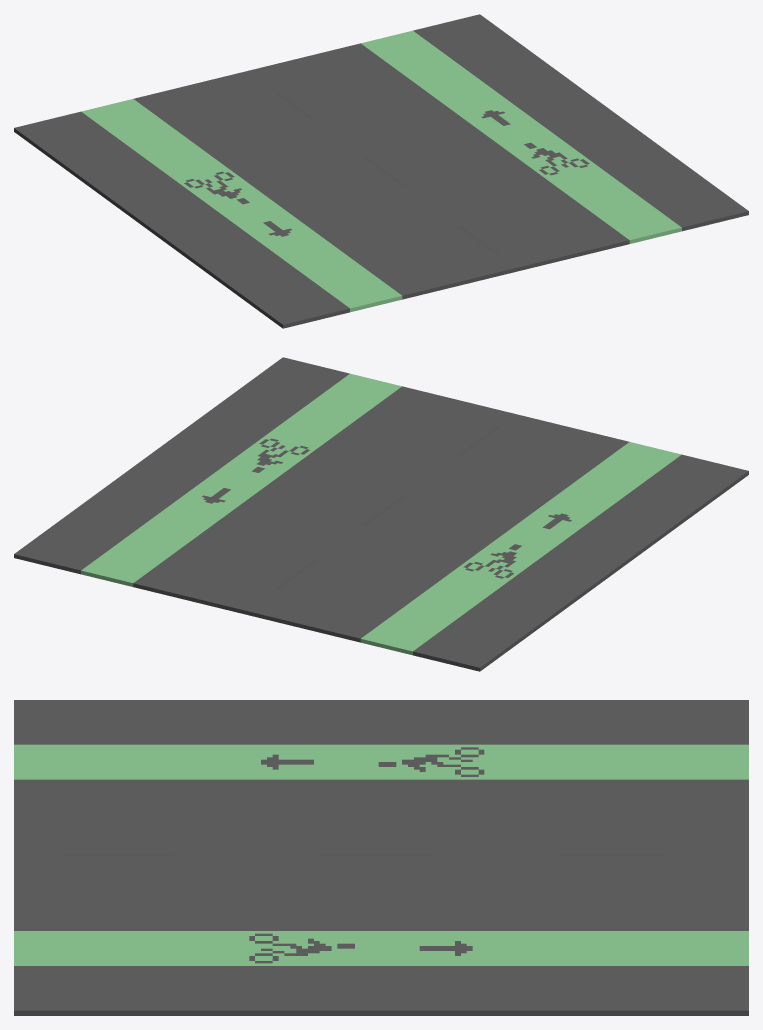
The model's file is kfarr_bases_valencia_dashed.obj.
3 views of the same model, one above another, from view 1: azimuth 30°, elevation 25°; view 2: azimuth 150°, elevation 25°; view 3: azimuth 270°, elevation 25° (orthographic). The views are drawn at different scales.
Bounding box in the file's own units: 125 × 1 × 125.
